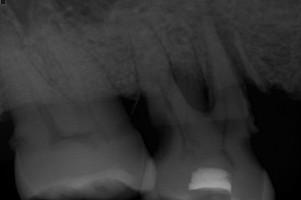Endo-Periodontal Lesion: (169, 62, 212, 112)
